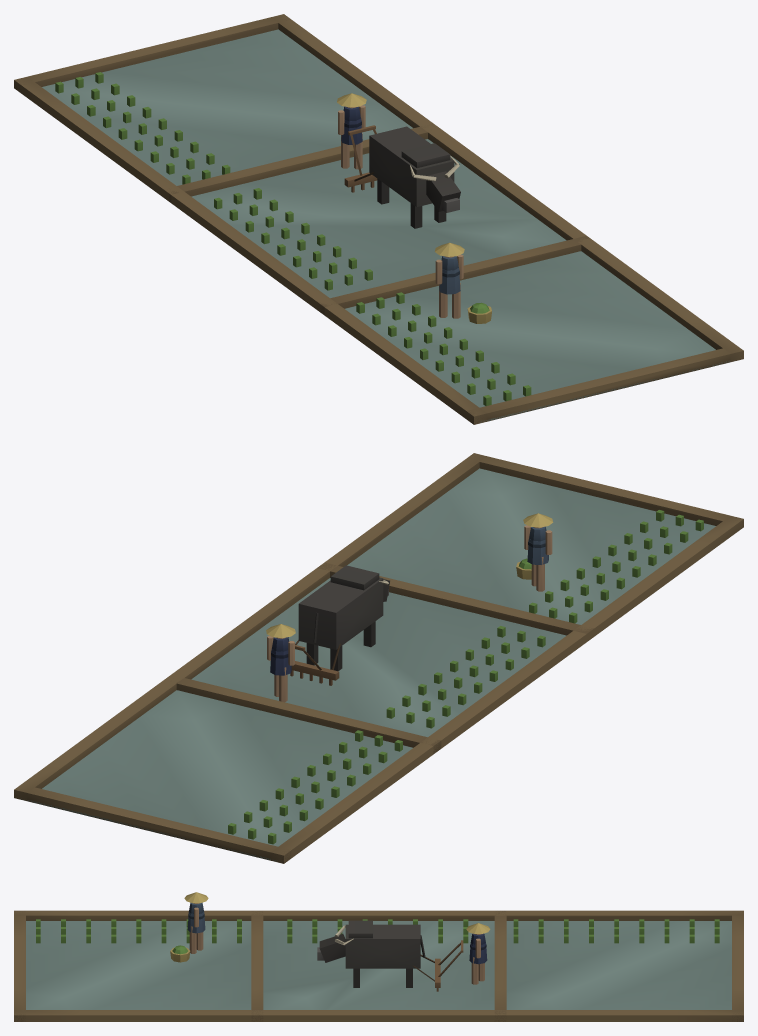
Rendered from farmer.glb.
The picture shows the model from 3 angles, top to bottom: view 1: azimuth 30°, elevation 25°; view 2: azimuth 150°, elevation 25°; view 3: azimuth 270°, elevation 25°; orthographic projection. The views are drawn at different scales.
Parts seen in each view (by area): view 1: base, anim_walk; view 2: base, anim_walk; view 3: base, anim_walk.
Part boxes in pixels (x1=…): base: x1=14, y1=14, x2=743, y2=424; anim_walk: x1=337, y1=93, x2=460, y2=228; base: x1=14, y1=453, x2=743, y2=863; anim_walk: x1=266, y1=565, x2=389, y2=702; base: x1=14, y1=892, x2=743, y2=1021; anim_walk: x1=317, y1=920, x2=490, y2=991.
Bounding box in the file's own units: 6.1 × 1.64 × 18.
